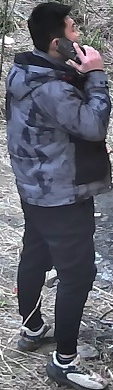phone: (38, 21, 111, 146)
